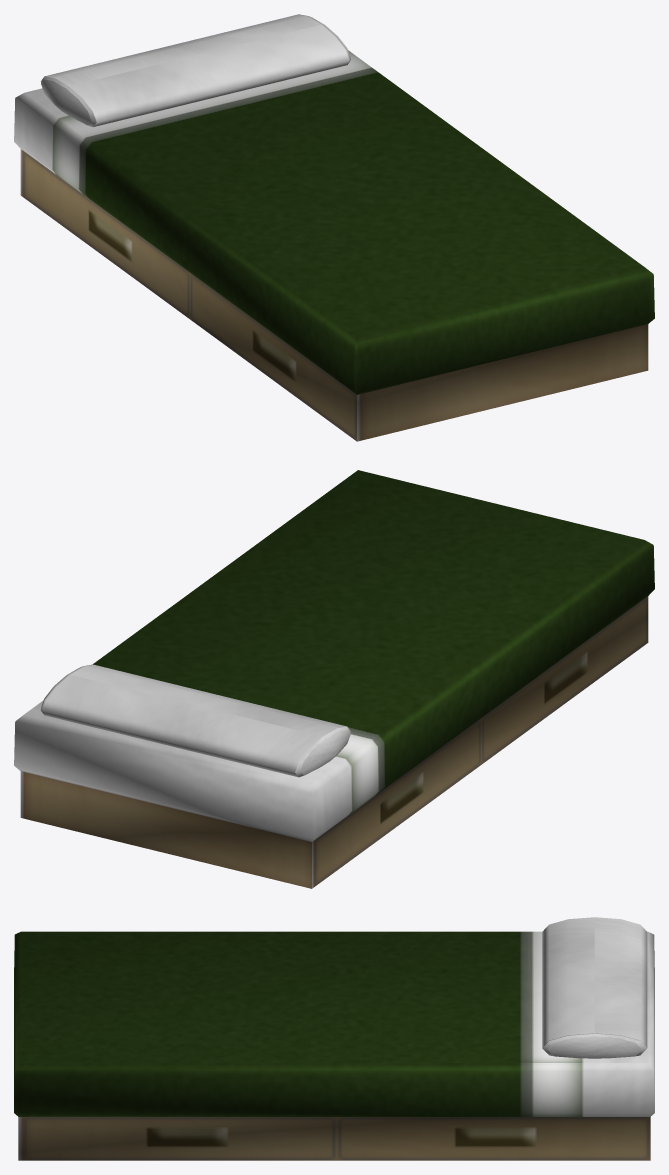
The model's file is Bed.FBX.
The picture shows the model from 3 angles, top to bottom: view 1: azimuth 30°, elevation 25°; view 2: azimuth 150°, elevation 25°; view 3: azimuth 270°, elevation 25°; orthographic projection. The views are drawn at different scales.
Visible parts, largest first — view 1: Box002, ChamferCyl001; view 2: Box002, ChamferCyl001; view 3: Box002, ChamferCyl001.
Boxes of the visible parts, x1,y1,x2,y2 form: Box002: (14, 50, 654, 441); ChamferCyl001: (40, 14, 350, 126); Box002: (14, 470, 654, 888); ChamferCyl001: (40, 664, 350, 777); Box002: (14, 931, 654, 1160); ChamferCyl001: (542, 917, 647, 1058).
Size of the model in its own units: 0.5141 by 0.2069 by 1.01.
1 material, 1 textured.
